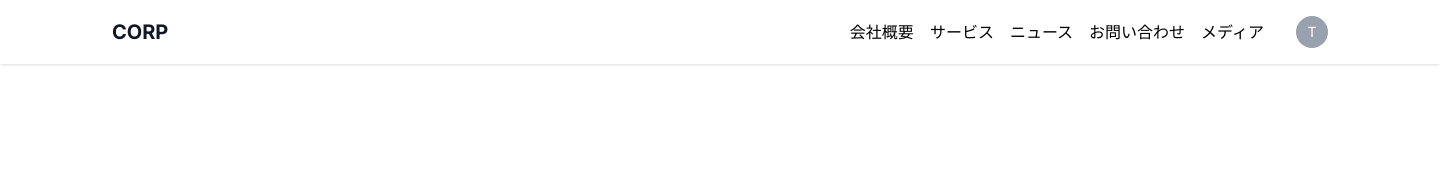
Test: CorporateHeader › 認証状態による表示 › ユーザーメニューの開閉ができる
Expected: the text "マイページ" is not shown
Click the button "T" at (1312, 32), box [1296,16,1328,48]
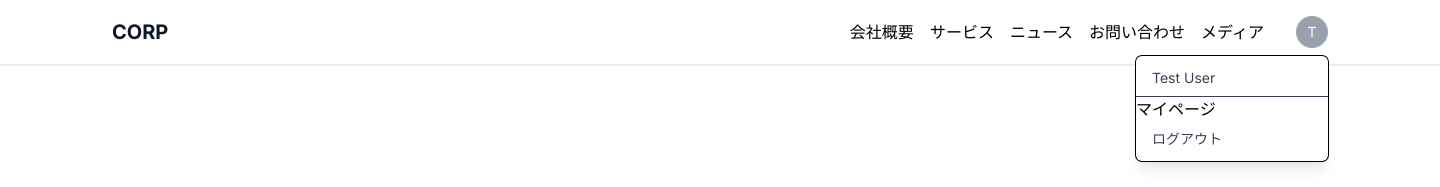
Expected: the link "マイページ" is shown, [1136,99,1216,119]
Expected: the button "ログアウト" is shown, [1136,121,1328,157]
Expected: the text "Test User" is shown, [1136,60,1328,97]
Note: もう一度クリックして閉じる
Click the button "T" at (1312, 32), box [1296,16,1328,48]
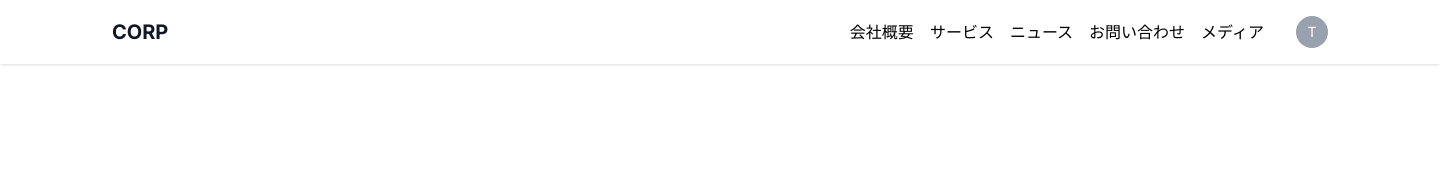
Expected: the link "マイページ" is gone
